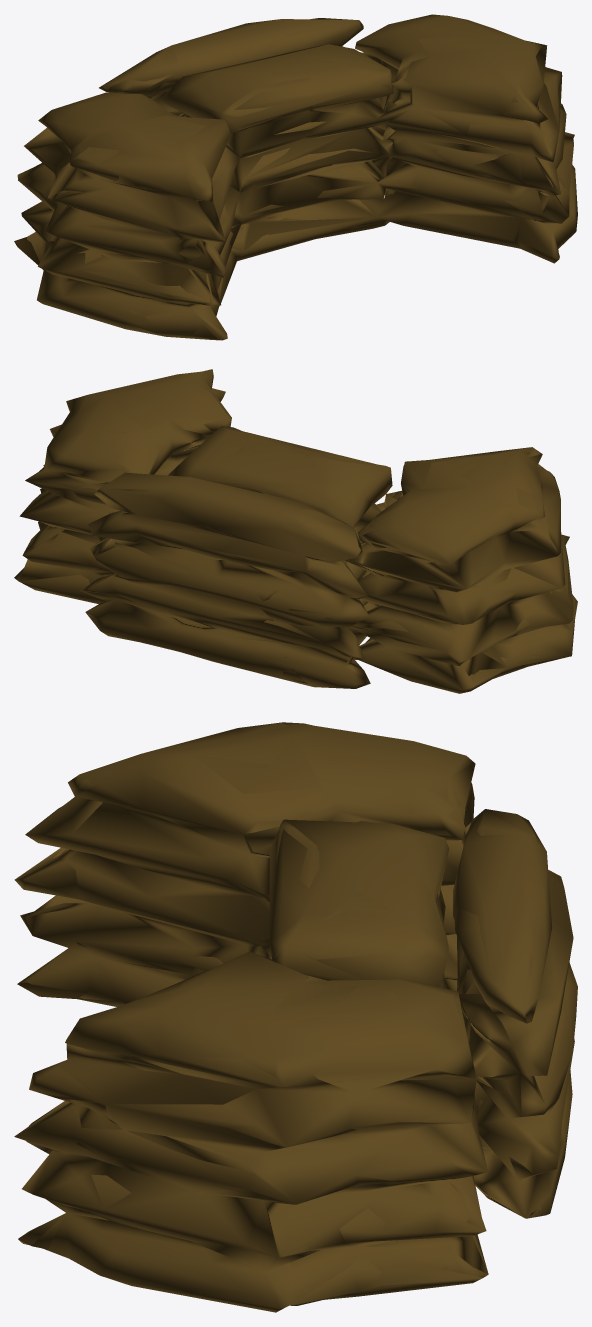
Rendered from gen3d-sandbag-wall-lod0.glb.
3 views of the same model, one above another, from view 1: azimuth 30°, elevation 25°; view 2: azimuth 150°, elevation 25°; view 3: azimuth 270°, elevation 25° (orthographic). The views are drawn at different scales.
Parts seen in each view (by area): view 1: part_0; view 2: part_0; view 3: part_0.
Part boxes in pixels (box(x1,y1,x2,y2)): part_0: box(14, 14, 577, 340); part_0: box(14, 369, 577, 693); part_0: box(14, 722, 577, 1312).
Bounding box in the file's own units: 3.36 × 0.9956 × 1.96.
